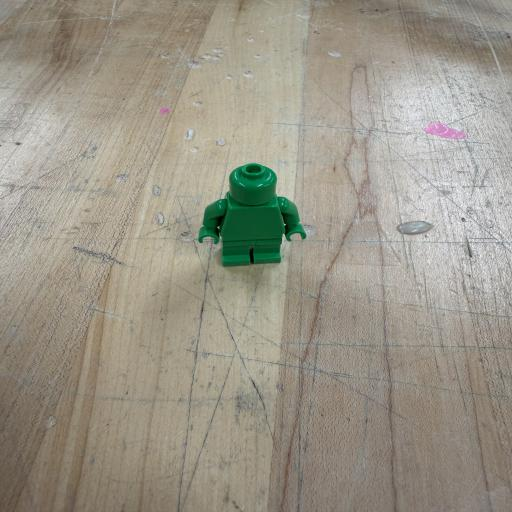Green-Lego: (198, 163, 306, 266)
